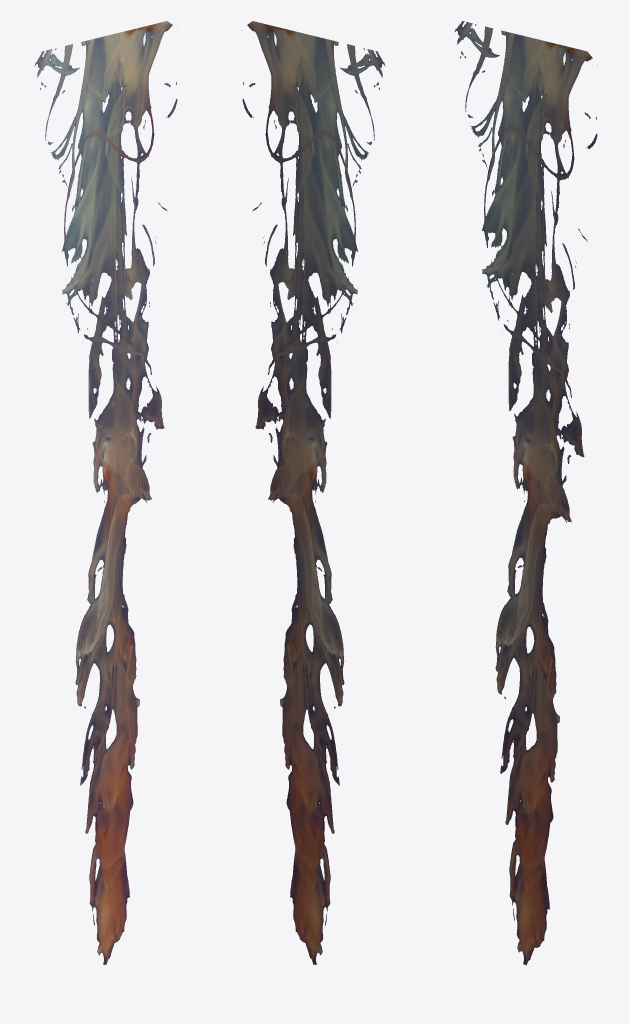
File: jellyFish_tentacle.fbx
The picture shows the model from 3 angles, left to right: view 1: azimuth 30°, elevation 25°; view 2: azimuth 150°, elevation 25°; view 3: azimuth 330°, elevation 25°; orthographic projection.
Visible parts, largest first — view 1: pPlane1; view 2: pPlane1; view 3: pPlane1.
Boxes of the visible parts, x1,y1,x2,y2 form: pPlane1: (34,21,177,964); pPlane1: (242,21,385,964); pPlane1: (454,21,597,965).
Size of the model in its own units: 2 by 10 by 0.
